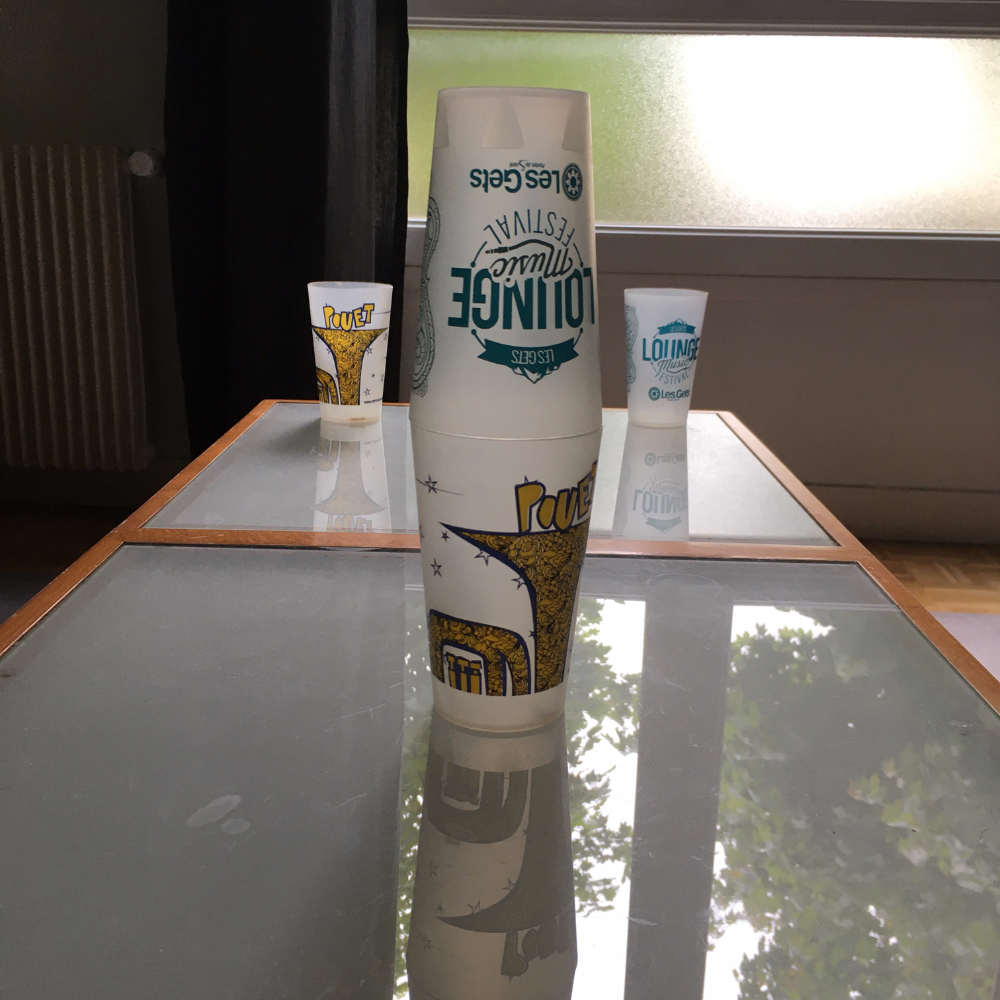ecocup: (407, 87, 603, 439), (409, 422, 603, 733), (308, 280, 393, 424), (623, 287, 708, 428)
